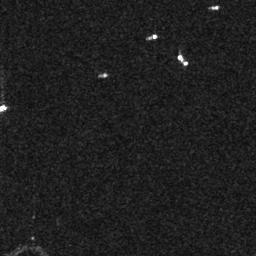ship: (177, 54, 189, 67), (146, 34, 158, 40), (210, 5, 222, 10)
